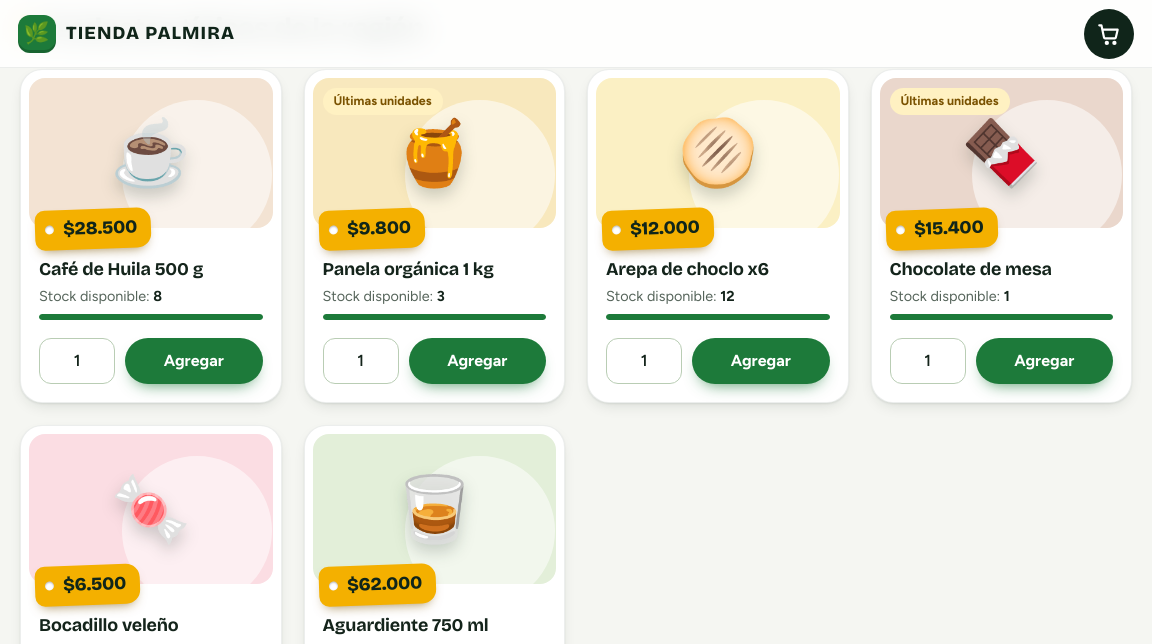
Test: Líneas, subtotales y totales › los totales se actualizan al cambiar cantidades
(page scrolled)
Replace the text in the number field named "Cantidad de Café de Huila 500 g" with "2" at [77, 361], box [39, 338, 115, 384]
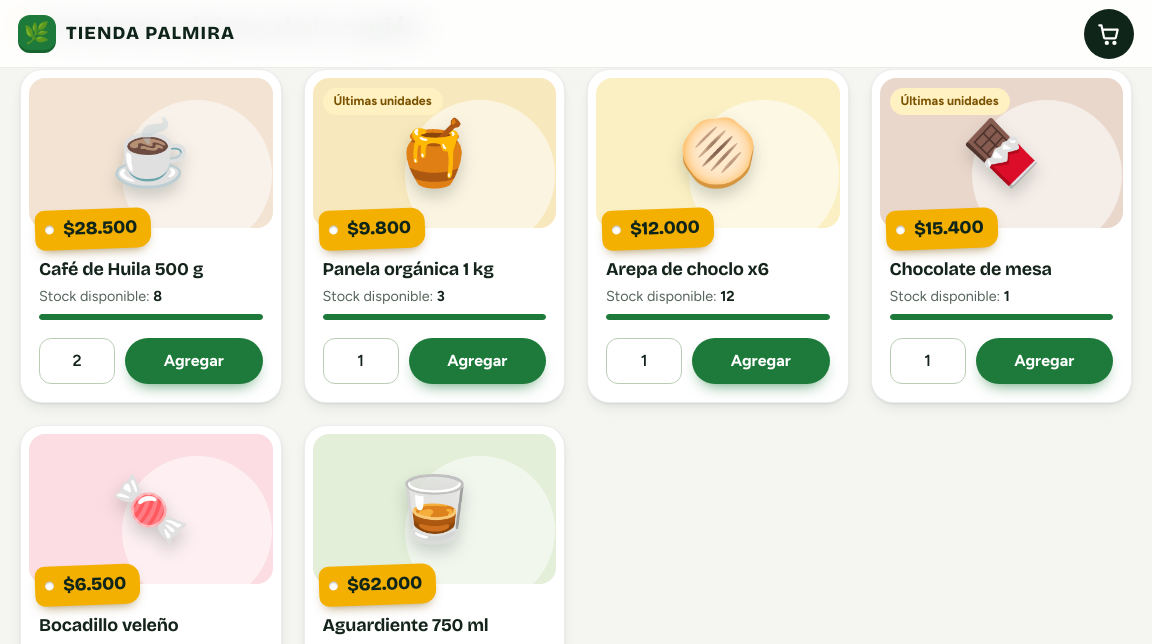
Click the button "Agregar" below "Café de Huila 500 g" at [194, 361], box [125, 338, 262, 384]
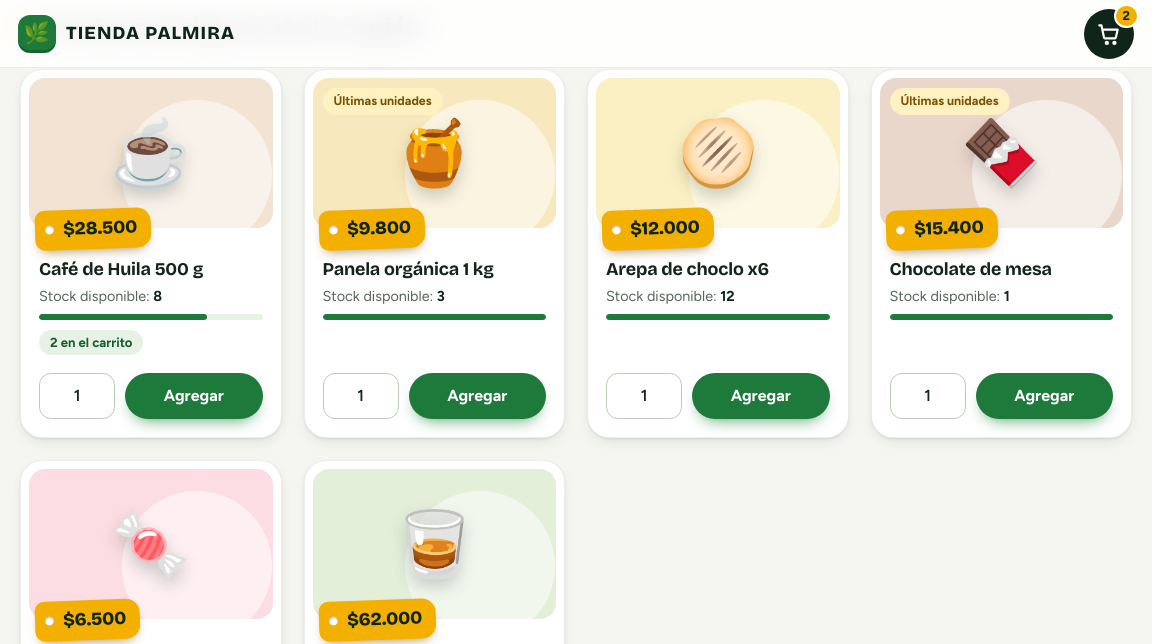
Click the button named "abrir carrito" at [1109, 34], box [1084, 8, 1134, 58]
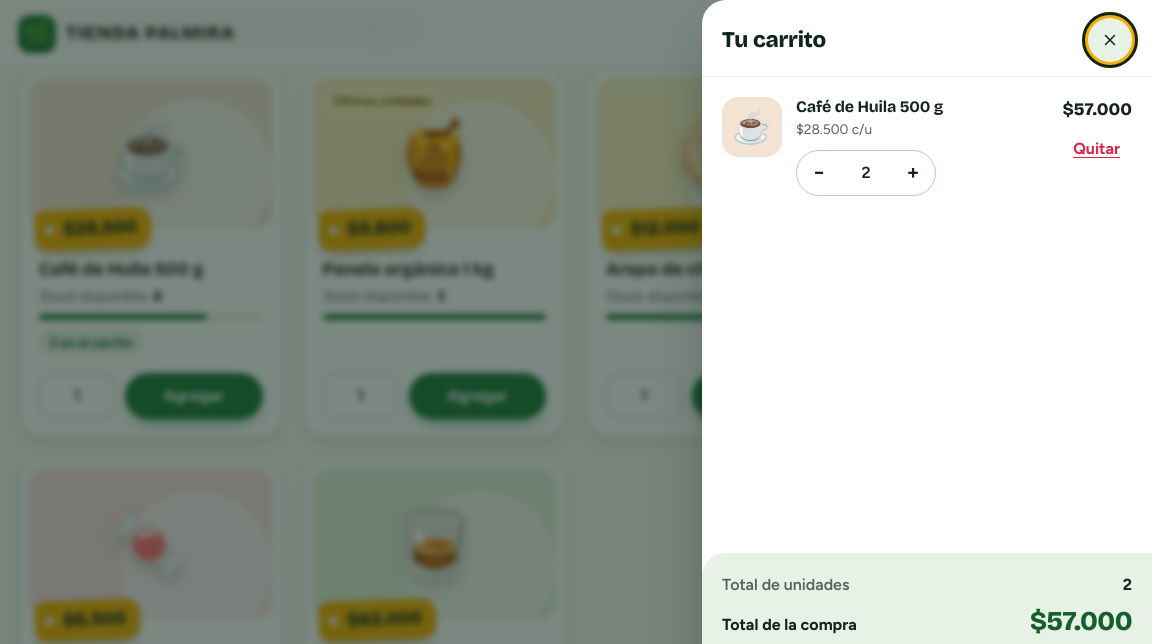
Click the button "+" at [913, 173], box [894, 154, 932, 192]
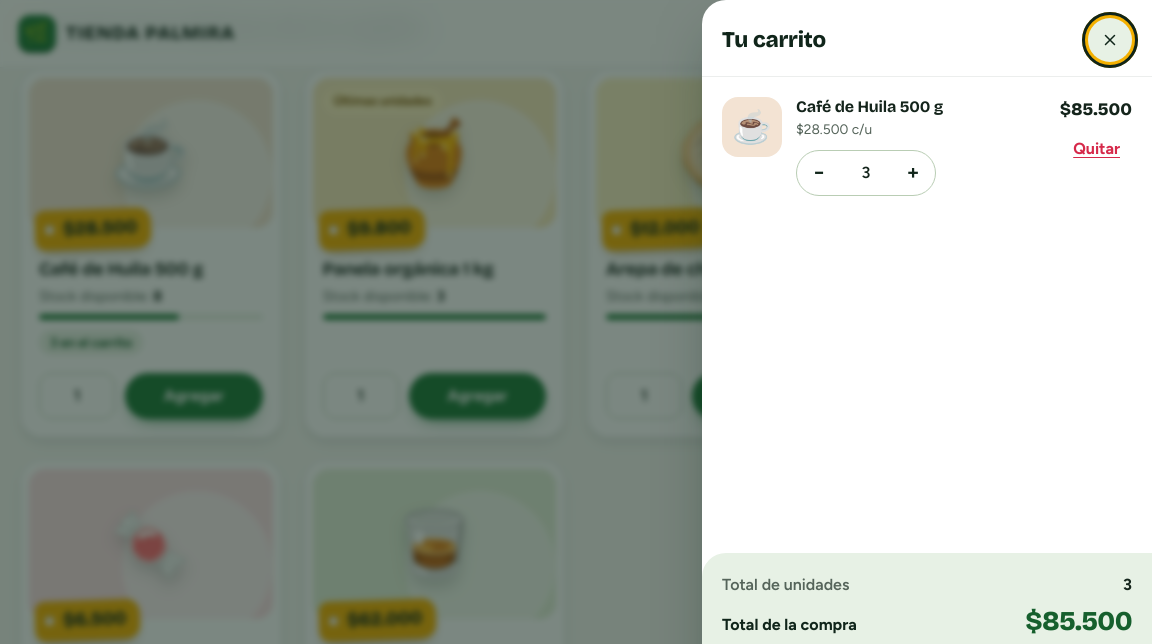
Expected: the text with test id "total-price" reads "$85.500", [1025, 605, 1132, 637]
Expected: the text with test id "total-units" reads "3", [1123, 575, 1132, 594]
